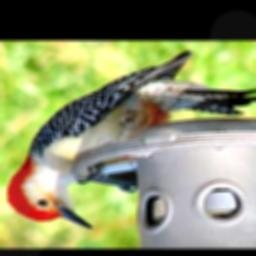Woodpecker: (7, 50, 256, 229)
